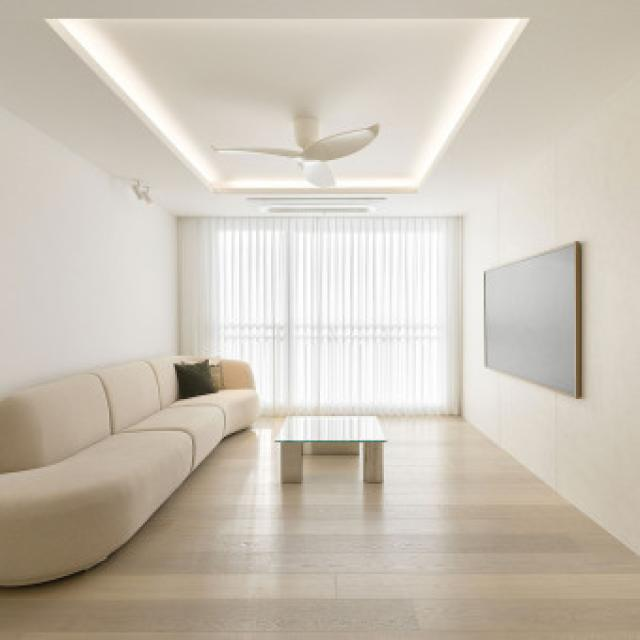Sofa: (6, 350, 259, 582)
Table: (277, 416, 388, 488)
tv: (482, 242, 582, 403)
window: (187, 221, 468, 412)
